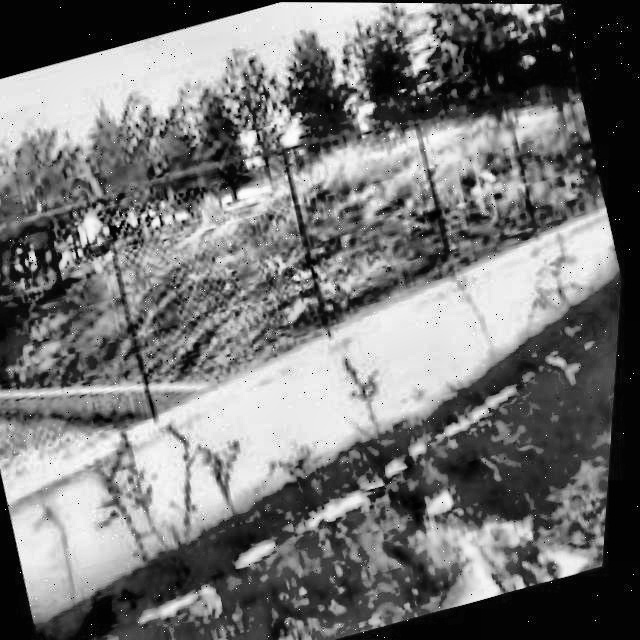Fire: (406, 486, 576, 615)
